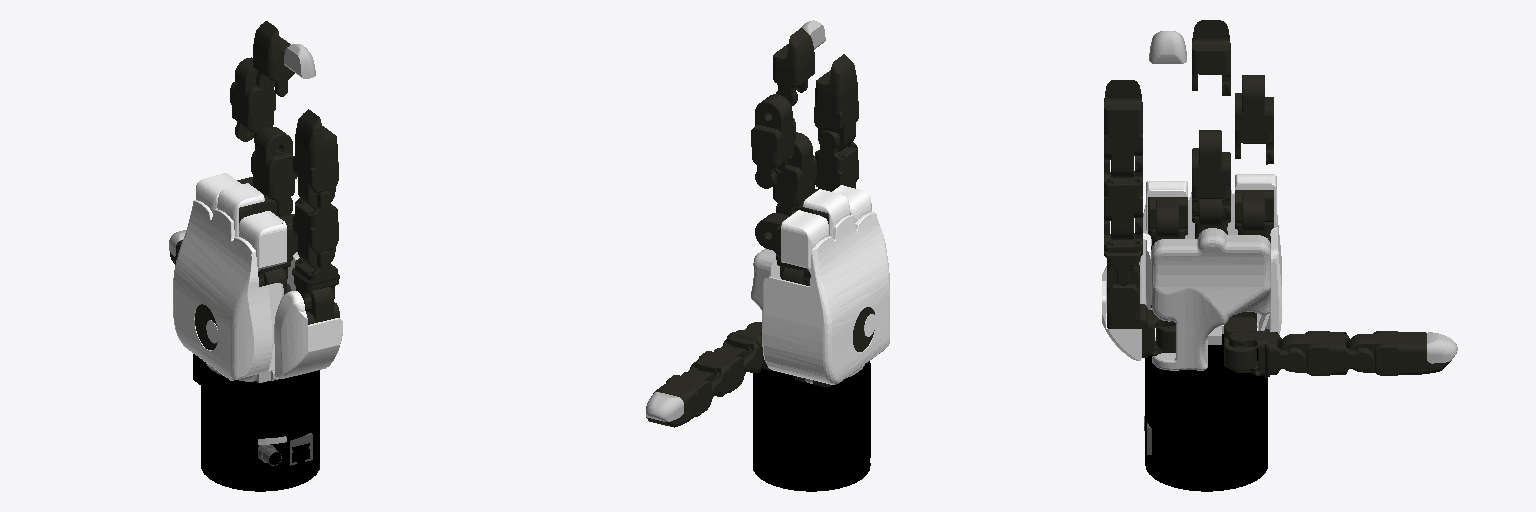
--- Facts derived from the render (not from the file) ---
The picture shows the robot from 3 angles, left to right: view 1: azimuth 30°, elevation 25°; view 2: azimuth 150°, elevation 25°; view 3: azimuth 270°, elevation 25°; orthographic projection.
Robot: dg5f_right — 28 links, 27 joints (20 revolute, 7 fixed); root link rl_dg_mount; default pose: every joint at zero.
Visible links, largest first — view 1: rl_dg_palm, rl_dg_base, rl_dg_5_1, rl_dg_5_4, rl_dg_3_2, rl_dg_4_1, rl_dg_2_3, rl_dg_5_3, rl_dg_3_4, rl_dg_3_1, rl_dg_5_2, rl_dg_2_1 (+1 smaller); view 2: rl_dg_palm, rl_dg_base, rl_dg_2_3, rl_dg_2_1, rl_dg_5_4, rl_dg_3_2, rl_dg_3_4, rl_dg_5_3, rl_dg_1_4, rl_dg_1_3, rl_dg_3_1, rl_dg_1_2 (+2 smaller); view 3: rl_dg_palm, rl_dg_base, rl_dg_5_1, rl_dg_5_4, rl_dg_1_4, rl_dg_1_3, rl_dg_3_2, rl_dg_2_3, rl_dg_2_1, rl_dg_4_1, rl_dg_5_3, rl_dg_3_4 (+6 smaller).
Boxes of the visible links, bbox=[...] form: rl_dg_palm: bbox=[173, 200, 299, 382]; rl_dg_base: bbox=[193, 354, 319, 491]; rl_dg_5_1: bbox=[274, 287, 342, 378]; rl_dg_5_4: bbox=[293, 109, 338, 208]; rl_dg_3_2: bbox=[251, 126, 296, 215]; rl_dg_4_1: bbox=[239, 211, 297, 286]; rl_dg_2_3: bbox=[230, 57, 275, 143]; rl_dg_5_3: bbox=[293, 191, 338, 267]; rl_dg_3_4: bbox=[253, 21, 294, 96]; rl_dg_3_1: bbox=[217, 183, 292, 236]; rl_dg_5_2: bbox=[292, 251, 339, 311]; rl_dg_2_1: bbox=[196, 173, 252, 212]; rl_dg_palm: bbox=[751, 212, 889, 384]; rl_dg_base: bbox=[753, 361, 870, 491]; rl_dg_2_3: bbox=[751, 94, 795, 188]; rl_dg_2_1: bbox=[755, 210, 828, 285]; rl_dg_5_4: bbox=[814, 54, 858, 151]; rl_dg_3_2: bbox=[773, 132, 816, 215]; rl_dg_3_4: bbox=[773, 28, 814, 106]; rl_dg_5_3: bbox=[815, 130, 858, 190]; rl_dg_1_4: bbox=[646, 369, 715, 427]; rl_dg_1_3: bbox=[681, 345, 748, 396]; rl_dg_3_1: bbox=[776, 189, 849, 236]; rl_dg_1_2: bbox=[714, 322, 762, 372]; rl_dg_palm: bbox=[1140, 190, 1281, 370]; rl_dg_base: bbox=[1144, 334, 1267, 491]; rl_dg_5_1: bbox=[1102, 262, 1175, 360]; rl_dg_5_4: bbox=[1104, 80, 1142, 177]; rl_dg_1_4: bbox=[1346, 331, 1450, 375]; rl_dg_1_3: bbox=[1278, 331, 1373, 375]; rl_dg_3_2: bbox=[1192, 130, 1230, 219]; rl_dg_2_3: bbox=[1235, 75, 1273, 164]; rl_dg_2_1: bbox=[1235, 174, 1276, 237]; rl_dg_4_1: bbox=[1146, 181, 1187, 242]; rl_dg_5_3: bbox=[1104, 155, 1142, 239]; rl_dg_3_4: bbox=[1192, 20, 1230, 95].
Size in the robot's own frame: 0.0735 by 0.2022 by 0.2837 metres.
Meshes: 28 distinct files referenced, 18 mesh visuals loaded (18 Collada DAE); not drawn: 10 (reference not matched to a file when rendering).

The robot description file, URDF, robot "dg5f_right":
<?xml version="1.0" ?>
<!--
    dg5f_right.urdf
    Licensed under the BSD-3-Clause
    Copyright (c) 2025 Tesollo Inc.
    See LICENSE file for details.

    Reference:
    * https://tesollo.com/dg-5f/
-->

<robot name="dg5f_right">
  <link name="rl_dg_mount">
    <inertial>
      <origin xyz="-6.4721E-09 -2.1674E-05 0.0049997" rpy="0.0 0.0 0.0" />
      <inertia ixx="1.0999E-05" ixy="-2.1734E-12" ixz="1.2441E-12" iyy="1.1018E-05" iyz="4.0435E-09" izz="2.0531E-05" />
      <mass value="0.05" />
    </inertial>
    <visual>
      <geometry>
        <mesh filename="package://dg_description/meshes/dg5f_right/visual/rl_dg_mount.dae"/>
      </geometry>
    </visual>
    <collision>
      <geometry>
        <mesh filename="package://dg_description/meshes/dg5f_right/collision/rl_dg_mount_c.STL"/>
      </geometry>
    </collision>
  </link>

  <link name="rl_dg_base">
    <inertial>
      <origin xyz="-0.00058969 0.0005138 0.037363" rpy="0.0 0.0 0.0" />
      <inertia ixx="0.00048608" ixy="1.041E-05" ixz="1.7229E-05" iyy="0.00049085" iyz="-5.1908E-06" izz="0.00043369" />
      <mass value="0.45" />
    </inertial>
    <visual>
      <origin xyz="0 0 0" rpy="0 0 0" />
      <geometry>
        <mesh filename="package://dg_description/meshes/dg5f_right/visual/rl_dg_base.dae" />
      </geometry>
    </visual>
    <collision>
      <origin xyz="0 0 0" rpy="0 0 0" />
      <geometry>
        <mesh filename="package://dg_description/meshes/dg5f_right/collision/rl_dg_base_c.STL" />
      </geometry>
    </collision>
  </link>
  <joint name="rj_dg_base" type="fixed">
    <parent link="rl_dg_mount"/>
    <child link="rl_dg_base"/>
    <origin rpy="0 0 0" xyz="0 0 0.004"/>
  </joint>

  <link name="rl_dg_palm">
    <inertial>
      <origin xyz="-0.0089577 0.00095577 0.041325" rpy="0.0 0.0 0.0" />
      <inertia ixx="0.00052656" ixy="2.513E-06" ixz="-2.2304E-05" iyy="0.00041654" iyz="-4.8956E-05" izz="0.00045783" />
      <mass value="0.35" />
    </inertial>
    <visual>
      <origin xyz="0 0 0" rpy="0 0 0" />
      <geometry>
        <mesh filename="package://dg_description/meshes/dg5f_right/visual/rl_dg_palm.dae" />
      </geometry>
    </visual>
    <collision>
      <origin xyz="0 0 0" rpy="0 0 0" />
      <geometry>
        <mesh filename="package://dg_description/meshes/dg5f_right/collision/rl_dg_palm_c.STL" />
      </geometry>
    </collision>
  </link>
  <joint name="rj_dg_palm" type="fixed">
    <parent link="rl_dg_base"/>
    <child link="rl_dg_palm"/>
    <origin rpy="0 0 0" xyz="0 0 0.0698"/>
  </joint>

  <link name="rl_dg_1_1">
    <inertial>
      <origin xyz="0.021473 3.1163E-06 0.0028146" rpy="0.0 0.0 0.0" />
      <inertia ixx="4.2707E-06" ixy="2.4123E-09" ixz="2.9055E-06" iyy="1.3718E-05" iyz="-1.3824E-09" izz="1.2161E-05" />
      <mass value="0.045" />
    </inertial>
    <visual>
      <origin xyz="0 0 0" rpy="0 0 0" />
      <geometry>
        <mesh filename="package://dg_description/meshes/dg5f_right/visual/rl_dg_1_1.dae" />
      </geometry>
    </visual>
    <collision>
      <origin xyz="0 0 0" rpy="0 0 0" />
      <geometry>
        <mesh filename="package://dg_description/meshes/dg5f_right/collision/rl_dg_1_1_c.STL" />
      </geometry>
    </collision>
  </link>
  <joint name="rj_dg_1_1" type="revolute">
    <origin xyz="-0.0162 0.019 0.0128" rpy="0.0 0.0 0.0" />
    <parent link="rl_dg_palm" />
    <child link="rl_dg_1_1" />
    <axis xyz="1 0 0" />
    <limit lower="-0.3839724354387525" upper="0.8901179185171081" effort="7.5" velocity="3.141592653589793"/>
  </joint>

  <link name="rl_dg_1_2">
    <inertial>
      <origin xyz="0.00055633 0.0155 0.00055633" rpy="0.0 0.0 0.0" />
      <inertia ixx="1.9935E-06" ixy="-1.5774E-07" ixz="3.114E-09" iyy="1.459E-06" iyz="1.5774E-07" izz="1.9935E-06" />
      <mass value="0.025" />
    </inertial>
    <visual>
      <origin xyz="0 0 0" rpy="0 0 0" />
      <geometry>
        <mesh filename="package://dg_description/meshes/dg5f_right/visual/rl_dg_1_2.dae" />
      </geometry>
    </visual>
    <collision>
      <origin xyz="0 0 0" rpy="0 0 0" />
      <geometry>
        <mesh filename="package://dg_description/meshes/dg5f_right/collision/rl_dg_1_2_c.STL" />
      </geometry>
    </collision>
  </link>
  <joint name="rj_dg_1_2" type="revolute">
    <origin xyz="0.04195 0.0 0.0" rpy="0.0 0.0 0.0" />
    <parent link="rl_dg_1_1" />
    <child link="rl_dg_1_2" />
    <axis xyz="0 0 1" />
    <limit lower="-3.141592653589793" upper="0.0" effort="7.5" velocity="3.141592653589793"/>
  </joint>

  <link name="rl_dg_1_3">
    <inertial>
      <origin xyz="2.3008E-05 0.014842 4.7446E-06" rpy="0.0 0.0 0.0" />
      <inertia ixx="5.9794E-06" ixy="-3.6014E-07" ixz="-1.3678E-09" iyy="2.458E-06" iyz="-2.3552E-09" izz="6.4181E-06" />
      <mass value="0.045" />
    </inertial>
    <visual>
      <origin xyz="0 0 0" rpy="0 0 0" />
      <geometry>
        <mesh filename="package://dg_description/meshes/dg5f_right/visual/rl_dg_1_3.dae" />
      </geometry>
    </visual>
    <collision>
      <origin xyz="0 0 0" rpy="0 0 0" />
      <geometry>
        <mesh filename="package://dg_description/meshes/dg5f_right/collision/rl_dg_1_3_c.STL" />
      </geometry>
    </collision>
  </link>
  <joint name="rj_dg_1_3" type="revolute">
    <origin xyz="0.0 0.031 0.0" rpy="0.0 0.0 0.0" />
    <parent link="rl_dg_1_2" />
    <child link="rl_dg_1_3" />
    <axis xyz="1 0 0" />
    <limit lower="-1.5707963267948966" upper="1.5707963267948966" effort="7.5" velocity="3.141592653589793"/>
  </joint>

  <link name="rl_dg_1_4">
    <inertial>
      <origin xyz="-0.00020482 0.018795 -0.00036539" rpy="0.0 0.0 0.0" />
      <inertia ixx="9.4915E-06" ixy="-1.5157E-07" ixz="3.4626E-09" iyy="2.9391E-06" iyz="3.7813E-07" izz="9.8194E-06" />
      <mass value="0.045" />
    </inertial>
    <visual>
      <origin xyz="0 0 0" rpy="0 0 0" />
      <geometry>
        <mesh filename="package://dg_description/meshes/dg5f_right/visual/rl_dg_1_4.dae" />
      </geometry>
    </visual>
    <collision>
      <origin xyz="0 0 0" rpy="0 0 0" />
      <geometry>
        <mesh filename="package://dg_description/meshes/dg5f_right/collision/rl_dg_1_4_c.STL" />
      </geometry>
    </collision>
  </link>
  <joint name="rj_dg_1_4" type="revolute">
    <origin xyz="0.0 0.0388 0.0" rpy="0.0 0.0 0.0" />
    <parent link="rl_dg_1_3" />
    <child link="rl_dg_1_4" />
    <axis xyz="1 0 0" />
    <limit lower="-1.5707963267948966" upper="1.5707963267948966" effort="7.5" velocity="3.141592653589793"/>
  </joint>

  <link name="rl_dg_1_tip">
    <inertial>
      <origin xyz="5.479E-07 0.007157 0.0038063" rpy="0.0 0.0 0.0" />
      <inertia ixx="1.9895E-07" ixy="-3.0731E-11" ixz="2.1191E-12" iyy="2.5698E-07" iyz="1.3375E-08" izz="3.2445E-07" />
      <mass value="0.005" />
    </inertial>
    <visual>
      <origin xyz="0 0 0" rpy="0 0 0" />
      <geometry>
        <mesh filename="package://dg_description/meshes/dg5f_right/visual/rl_dg_1_tip.dae" />
      </geometry>
    </visual>
    <collision>
      <origin xyz="0 0 0" rpy="0 0 0" />
      <geometry>
        <mesh filename="package://dg_description/meshes/dg5f_right/collision/rl_dg_1_tip_c.STL" />
      </geometry>
    </collision>
  </link>
  <joint name="rj_dg_1_tip" type="fixed">
    <origin xyz="0.0 0.0363 0.0" rpy="0.0 0.0 0.0" />
    <parent link="rl_dg_1_4" />
    <child link="rl_dg_1_tip" />
  </joint>

  <link name="rl_dg_2_1">
    <inertial>
      <origin xyz="0.001061 0.00024417 0.023499" rpy="0.0 0.0 0.0" />
      <inertia ixx="6.5538E-06" ixy="3.9294E-08" ixz="-1.1507E-06" iyy="9.5305E-06" iyz="7.6072E-08" izz="7.0877E-06" />
      <mass value="0.045" />
    </inertial>
    <visual>
      <origin xyz="0 0 0" rpy="0 0 0" />
      <geometry>
        <mesh filename="package://dg_description/meshes/dg5f_right/visual/rl_dg_2_1.dae" />
      </geometry>
    </visual>
    <collision>
      <origin xyz="0 0 0" rpy="0 0 0" />
      <geometry>
        <mesh filename="package://dg_description/meshes/dg5f_right/collision/rl_dg_2_1_c.STL" />
      </geometry>
    </collision>
  </link>
  <joint name="rj_dg_2_1" type="revolute">
    <origin xyz="-0.0071 0.027 0.0661" rpy="0.0 0.0 0.0" />
    <parent link="rl_dg_palm" />
    <child link="rl_dg_2_1" />
    <axis xyz="1 0 0" />
    <limit lower="-0.4188790204786391" upper="0.6108652381980153" effort="7.5" velocity="3.141592653589793"/>
  </joint>

  <link name="rl_dg_2_2">
    <inertial>
      <origin xyz="-4.7446E-06 2.3008E-05 0.023958" rpy="0.0 0.0 0.0" />
      <inertia ixx="6.4181E-06" ixy="1.3678E-09" ixz="-2.3552E-09" iyy="5.9794E-06" iyz="3.6014E-07" izz="2.458E-06" />
      <mass value="0.045" />
    </inertial>
    <visual>
      <origin xyz="0 0 0" rpy="0 0 0" />
      <geometry>
        <mesh filename="package://dg_description/meshes/dg5f_right/visual/rl_dg_2_2.dae" />
      </geometry>
    </visual>
    <collision>
      <origin xyz="0 0 0" rpy="0 0 0" />
      <geometry>
        <mesh filename="package://dg_description/meshes/dg5f_right/collision/rl_dg_2_2_c.STL" />
      </geometry>
    </collision>
  </link>
  <joint name="rj_dg_2_2" type="revolute">
    <origin xyz="0.01765 0.0 0.0265" rpy="0.0 0.0 0.0" />
    <parent link="rl_dg_2_1" />
    <child link="rl_dg_2_2" />
    <axis xyz="0 1 0" />
    <limit lower="-0.0" upper="2.007128639793479" effort="7.5" velocity="3.141592653589793"/>
  </joint>

  <link name="rl_dg_2_3">
    <inertial>
      <origin xyz="-4.7446E-06 2.3008E-05 0.023958" rpy="0.0 0.0 0.0" />
      <inertia ixx="6.4181E-06" ixy="1.3678E-09" ixz="-2.3552E-09" iyy="5.9794E-06" iyz="3.6014E-07" izz="2.458E-06" />
      <mass value="0.045" />
    </inertial>
    <visual>
      <origin xyz="0 0 0" rpy="0 0 0" />
      <geometry>
        <mesh filename="package://dg_description/meshes/dg5f_right/visual/rl_dg_2_3.dae" />
      </geometry>
    </visual>
    <collision>
      <origin xyz="0 0 0" rpy="0 0 0" />
      <geometry>
        <mesh filename="package://dg_description/meshes/dg5f_right/collision/rl_dg_2_3_c.STL" />
      </geometry>
    </collision>
  </link>
  <joint name="rj_dg_2_3" type="revolute">
    <origin xyz="0.0 0.0 0.0388" rpy="0.0 0.0 0.0" />
    <parent link="rl_dg_2_2" />
    <child link="rl_dg_2_3" />
    <axis xyz="0 1 0" />
    <limit lower="-1.5707963267948966" upper="1.5707963267948966" effort="7.5" velocity="3.141592653589793"/>
  </joint>

  <link name="rl_dg_2_4">
    <inertial>
      <origin xyz="-0.00070816 0.00043036 0.017842" rpy="0.0 0.0 0.0" />
      <inertia ixx="2.8592E-06" ixy="-5.9306E-09" ixz="2.1028E-07" iyy="2.3907E-06" iyz="1.8286E-07" izz="1.6592E-06" />
      <mass value="0.025" />
    </inertial>
    <visual>
      <origin xyz="0 0 0" rpy="0 0 0" />
      <geometry>
        <mesh filename="package://dg_description/meshes/dg5f_right/visual/rl_dg_2_4.dae" />
      </geometry>
    </visual>
    <collision>
      <origin xyz="0 0 0" rpy="0 0 0" />
      <geometry>
        <mesh filename="package://dg_description/meshes/dg5f_right/collision/rl_dg_2_4_c.STL" />
      </geometry>
    </collision>
  </link>
  <joint name="rj_dg_2_4" type="revolute">
    <origin xyz="0.0 0.0 0.0388" rpy="0.0 0.0 0.0" />
    <parent link="rl_dg_2_3" />
    <child link="rl_dg_2_4" />
    <axis xyz="0 1 0" />
    <limit lower="-1.5707963267948966" upper="1.5707963267948966" effort="7.5" velocity="3.141592653589793"/>
  </joint>

  <link name="rl_dg_2_tip">
    <inertial>
      <origin xyz="0.0038062910498208 5.47903831610297E-07 0.00715699051285251" rpy="0.0 0.0 0.0" />
      <inertia ixx="3.24447323464583E-07" ixy="2.11907398040965E-12" ixz="1.337493321886E-08" iyy="1.98954959099231E-07" iyz="-3.07311776926212E-11" izz="2.56982145081954E-07" />
      <mass value="0.005" />
    </inertial>
    <visual>
      <origin xyz="0 0 0" rpy="0 0 0" />
      <geometry>
        <mesh filename="package://dg_description/meshes/dg5f_right/visual/rl_dg_2_tip.dae" />
      </geometry>
    </visual>
    <collision>
      <origin xyz="0 0 0" rpy="0 0 0" />
      <geometry>
        <mesh filename="package://dg_description/meshes/dg5f_right/collision/rl_dg_2_tip_c.STL" />
      </geometry>
    </collision>
  </link>
  <joint name="rj_dg_2_tip" type="fixed">
    <origin xyz="0.0 0.0 0.0255" rpy="0.0 0.0 0.0" />
    <parent link="rl_dg_2_4" />
    <child link="rl_dg_2_tip" />
  </joint>

  <link name="rl_dg_3_1">
    <inertial>
      <origin xyz="0.0012558 -0.00017703 0.023374" rpy="0.0 0.0 0.0" />
      <inertia ixx="6.233E-06" ixy="1.1315E-07" ixz="-1.1589E-06" iyy="9.3331E-06" iyz="3.5383E-08" izz="6.7817E-06" />
      <mass value="0.045" />
    </inertial>
    <visual>
      <origin xyz="0 0 0" rpy="0 0 0" />
      <geometry>
        <mesh filename="package://dg_description/meshes/dg5f_right/visual/rl_dg_3_1.dae" />
      </geometry>
    </visual>
    <collision>
      <origin xyz="0 0 0" rpy="0 0 0" />
      <geometry>
        <mesh filename="package://dg_description/meshes/dg5f_right/collision/rl_dg_3_1_c.STL" />
      </geometry>
    </collision>
  </link>
  <joint name="rj_dg_3_1" type="revolute">
    <origin xyz="-0.0071 0.0025 0.0701" rpy="0.0 0.0 0.0" />
    <parent link="rl_dg_palm" />
    <child link="rl_dg_3_1" />
    <axis xyz="1 0 0" />
    <limit lower="-0.6108652381980153" upper="0.6108652381980153" effort="7.5" velocity="3.141592653589793"/>
  </joint>

  <link name="rl_dg_3_2">
    <inertial>
      <origin xyz="-4.7446E-06 2.3008E-05 0.023958" rpy="0.0 0.0 0.0" />
      <inertia ixx="6.4181E-06" ixy="1.3678E-09" ixz="-2.3552E-09" iyy="5.9794E-06" iyz="3.6014E-07" izz="2.458E-06" />
      <mass value="0.045" />
    </inertial>
    <visual>
      <origin xyz="0 0 0" rpy="0 0 0" />
      <geometry>
        <mesh filename="package://dg_description/meshes/dg5f_right/visual/rl_dg_3_2.dae" />
      </geometry>
    </visual>
    <collision>
      <origin xyz="0 0 0" rpy="0 0 0" />
      <geometry>
        <mesh filename="package://dg_description/meshes/dg5f_right/collision/rl_dg_3_2_c.STL" />
      </geometry>
    </collision>
  </link>
  <joint name="rj_dg_3_2" type="revolute">
    <origin xyz="0.01765 0.0 0.0265" rpy="0.0 0.0 0.0" />
    <parent link="rl_dg_3_1" />
    <child link="rl_dg_3_2" />
    <axis xyz="0 1 0" />
    <limit lower="0.0" upper="1.9547687622336491" effort="7.5" velocity="3.141592653589793"/>
  </joint>

  <link name="rl_dg_3_3">
    <inertial>
      <origin xyz="-4.7446E-06 2.3008E-05 0.023958" rpy="0.0 0.0 0.0" />
      <inertia ixx="6.4181E-06" ixy="1.3678E-09" ixz="-2.3552E-09" iyy="5.9794E-06" iyz="3.6014E-07" izz="2.458E-06" />
      <mass value="0.045" />
    </inertial>
    <visual>
      <origin xyz="0 0 0" rpy="0 0 0" />
      <geometry>
        <mesh filename="package://dg_description/meshes/dg5f_right/visual/rl_dg_3_3.dae" />
      </geometry>
    </visual>
    <collision>
      <origin xyz="0 0 0" rpy="0 0 0" />
      <geometry>
        <mesh filename="package://dg_description/meshes/dg5f_right/collision/rl_dg_3_3_c.STL" />
      </geometry>
    </collision>
  </link>
  <joint name="rj_dg_3_3" type="revolute">
    <origin xyz="0.0 0.0 0.0388" rpy="0.0 0.0 0.0" />
    <parent link="rl_dg_3_2" />
    <child link="rl_dg_3_3" />
    <axis xyz="0 1 0" />
    <limit lower="-1.5707963267948966" upper="1.5707963267948966" effort="7.5" velocity="3.141592653589793"/>
  </joint>

  <link name="rl_dg_3_4">
    <inertial>
      <origin xyz="-0.00070816 0.00043036 0.017842" rpy="0.0 0.0 0.0" />
      <inertia ixx="2.8592E-06" ixy="-5.9306E-09" ixz="2.1028E-07" iyy="2.3907E-06" iyz="1.8286E-07" izz="1.6592E-06" />
      <mass value="0.025" />
    </inertial>
    <visual>
      <origin xyz="0 0 0" rpy="0 0 0" />
      <geometry>
        <mesh filename="package://dg_description/meshes/dg5f_right/visual/rl_dg_3_4.dae" />
      </geometry>
    </visual>
    <collision>
      <origin xyz="0 0 0" rpy="0 0 0" />
      <geometry>
        <mesh filename="package://dg_description/meshes/dg5f_right/collision/rl_dg_3_4_c.STL" />
      </geometry>
    </collision>
  </link>
  <joint name="rj_dg_3_4" type="revolute">
    <origin xyz="0.0 0.0 0.0388" rpy="0.0 0.0 0.0" />
    <parent link="rl_dg_3_3" />
    <child link="rl_dg_3_4" />
    <axis xyz="0 1 0" />
    <limit lower="-1.5707963267948966" upper="1.5707963267948966" effort="7.5" velocity="3.141592653589793"/>
  </joint>

  <link name="rl_dg_3_tip">
    <inertial>
      <origin xyz="0.0038062910498208 5.47903831610297E-07 0.00715699051285251" rpy="0.0 0.0 0.0" />
      <inertia ixx="3.24447323464583E-07" ixy="2.11907398040965E-12" ixz="1.337493321886E-08" iyy="1.98954959099231E-07" iyz="-3.07311776926212E-11" izz="2.56982145081954E-07" />
      <mass value="0.005" />
    </inertial>
    <visual>
      <origin xyz="0 0 0" rpy="0 0 0" />
      <geometry>
        <mesh filename="package://dg_description/meshes/dg5f_right/visual/rl_dg_3_tip.dae" />
      </geometry>
    </visual>
    <collision>
      <origin xyz="0 0 0" rpy="0 0 0" />
      <geometry>
        <mesh filename="package://dg_description/meshes/dg5f_right/collision/rl_dg_3_tip_c.STL" />
      </geometry>
    </collision>
  </link>
  <joint name="rj_dg_3_tip" type="fixed">
    <origin xyz="0.0 0.0 0.0255" rpy="0.0 0.0 0.0" />
    <parent link="rl_dg_3_4" />
    <child link="rl_dg_3_tip" />
  </joint>

  <link name="rl_dg_4_1">
    <inertial>
      <origin xyz="6.0566E-05 -0.00058566 0.023499" rpy="0.0 0.0 0.0" />
      <inertia ixx="6.5541E-06" ixy="1.8684E-07" ixz="-1.1508E-06" iyy="9.5306E-06" iyz="-5.3298E-09" izz="7.0879E-06" />
      <mass value="0.045" />
    </inertial>
    <visual>
      <origin xyz="0 0 0" rpy="0 0 0" />
      <geometry>
        <mesh filename="package://dg_description/meshes/dg5f_right/visual/rl_dg_4_1.dae" />
      </geometry>
    </visual>
    <collision>
      <origin xyz="0 0 0" rpy="0 0 0" />
      <geometry>
        <mesh filename="package://dg_description/meshes/dg5f_right/collision/rl_dg_4_1_c.STL" />
      </geometry>
    </collision>
  </link>
  <joint name="rj_dg_4_1" type="revolute">
    <origin xyz="-0.0071 -0.022 0.0621" rpy="0.0 0.0 0.0" />
    <parent link="rl_dg_palm" />
    <child link="rl_dg_4_1" />
    <axis xyz="1 0 0" />
    <limit lower="-0.6108652381980153" upper="0.4188790204786391" effort="7.5" velocity="3.141592653589793"/>
  </joint>

  <link name="rl_dg_4_2">
    <inertial>
      <origin xyz="-4.7446E-06 2.3008E-05 0.023958" rpy="0.0 0.0 0.0" />
      <inertia ixx="6.4181E-06" ixy="1.3678E-09" ixz="-2.3552E-09" iyy="5.9794E-06" iyz="3.6014E-07" izz="2.458E-06" />
      <mass value="0.045" />
    </inertial>
    <visual>
      <origin xyz="0 0 0" rpy="0 0 0" />
      <geometry>
        <mesh filename="package://dg_description/meshes/dg5f_right/visual/rl_dg_4_2.dae" />
      </geometry>
    </visual>
    <collision>
      <origin xyz="0 0 0" rpy="0 0 0" />
      <geometry>
        <mesh filename="package://dg_description/meshes/dg5f_right/collision/rl_dg_4_2_c.STL" />
      </geometry>
    </collision>
  </link>
  <joint name="rj_dg_4_2" type="revolute">
    <origin xyz="0.01765 0.0 0.0265" rpy="0.0 0.0 0.0" />
    <parent link="rl_dg_4_1" />
    <child link="rl_dg_4_2" />
    <axis xyz="0 1 0" />
    <limit lower="0.0" upper="1.9024088846738192" effort="7.5" velocity="3.141592653589793"/>
  </joint>

  <link name="rl_dg_4_3">
    <inertial>
      <origin xyz="-4.7446E-06 2.3008E-05 0.023958" rpy="0.0 0.0 0.0" />
      <inertia ixx="6.4181E-06" ixy="1.3678E-09" ixz="-2.3552E-09" iyy="5.9794E-06" iyz="3.6014E-07" izz="2.458E-06" />
      <mass value="0.045" />
    </inertial>
    <visual>
      <origin xyz="0 0 0" rpy="0 0 0" />
      <geometry>
        <mesh filename="package://dg_description/meshes/dg5f_right/visual/rl_dg_4_3.dae" />
      </geometry>
    </visual>
    <collision>
      <origin xyz="0 0 0" rpy="0 0 0" />
      <geometry>
        <mesh filename="package://dg_description/meshes/dg5f_right/collision/rl_dg_4_3_c.STL" />
      </geometry>
    </collision>
  </link>
  <joint name="rj_dg_4_3" type="revolute">
    <origin xyz="0.0 0.0 0.0388" rpy="0.0 0.0 0.0" />
    <parent link="rl_dg_4_2" />
    <child link="rl_dg_4_3" />
    <axis xyz="0 1 0" />
    <limit lower="-1.5707963267948966" upper="1.5707963267948966" effort="7.5" velocity="3.141592653589793"/>
  </joint>

  <link name="rl_dg_4_4">
    <inertial>
      <origin xyz="-0.00070816 0.00043036 0.017842" rpy="0.0 0.0 0.0" />
      <inertia ixx="2.8592E-06" ixy="-5.9306E-09" ixz="2.1028E-07" iyy="2.3907E-06" iyz="1.8286E-07" izz="1.6592E-06" />
      <mass value="0.025" />
    </inertial>
    <visual>
      <origin xyz="0 0 0" rpy="0 0 0" />
      <geometry>
        <mesh filename="package://dg_description/meshes/dg5f_right/visual/rl_dg_4_4.dae" />
      </geometry>
    </visual>
    <collision>
      <origin xyz="0 0 0" rpy="0 0 0" />
      <geometry>
        <mesh filename="package://dg_description/meshes/dg5f_right/collision/rl_dg_4_4_c.STL" />
      </geometry>
    </collision>
  </link>
  <joint name="rj_dg_4_4" type="revolute">
    <origin xyz="0.0 0.0 0.0388" rpy="0.0 0.0 0.0" />
    <parent link="rl_dg_4_3" />
    <child link="rl_dg_4_4" />
    <axis xyz="0 1 0" />
    <limit lower="-1.5707963267948966" upper="1.5707963267948966" effort="7.5" velocity="3.141592653589793"/>
  </joint>

  <link name="rl_dg_4_tip">
    <inertial>
      <origin xyz="0.0038062910498208 5.47903831610297E-07 0.00715699051285251" rpy="0.0 0.0 0.0" />
      <inertia ixx="3.24447323464583E-07" ixy="2.11907398040965E-12" ixz="1.337493321886E-08" iyy="1.98954959099231E-07" iyz="-3.07311776926212E-11" izz="2.56982145081954E-07" />
      <mass value="0.005" />
    </inertial>
    <visual>
      <origin xyz="0 0 0" rpy="0 0 0" />
      <geometry>
        <mesh filename="package://dg_description/meshes/dg5f_right/visual/rl_dg_4_tip.dae" />
      </geometry>
    </visual>
    <collision>
      <origin xyz="0 0 0" rpy="0 0 0" />
      <geometry>
        <mesh filename="package://dg_description/meshes/dg5f_right/collision/rl_dg_4_tip_c.STL" />
      </geometry>
    </collision>
  </link>
  <joint name="rj_dg_4_tip" type="fixed">
    <origin xyz="0.0 0.0 0.0255" rpy="0.0 0.0 0.0" />
    <parent link="rl_dg_4_4" />
    <child link="rl_dg_4_tip" />
  </joint>

  <link name="rl_dg_5_1">
    <inertial>
      <origin xyz="-0.00433013582483537 -0.0250157327042134 0.0140244480786593" rpy="0.0 0.0 0.0" />
      <inertia ixx="2.36207639664085E-05" ixy="2.93907895931127E-07" ixz="2.26324366936635E-06" iyy="2.36540063110524E-05" iyz="4.47865100758349E-06" izz="1.12977296557035E-05" />
      <mass value="0.055" />
    </inertial>
    <visual>
      <origin xyz="0 0 0" rpy="0 0 0" />
      <geometry>
        <mesh filename="package://dg_description/meshes/dg5f_right/visual/rl_dg_5_1.dae" />
      </geometry>
    </visual>
    <collision>
      <origin xyz="0 0 0" rpy="0 0 0" />
      <geometry>
        <mesh filename="package://dg_description/meshes/dg5f_right/collision/rl_dg_5_1_c.STL" />
      </geometry>
    </collision>
  </link>
  <joint name="rj_dg_5_1" type="revolute">
    <origin xyz="0.0103 -0.0195 0.0182" rpy="0.0 0.0 0.0" />
    <parent link="rl_dg_palm" />
    <child link="rl_dg_5_1" />
    <axis xyz="0 0 1" />
    <limit lower="-0.017453292519943295" upper="1.0471975511965976" effort="7.5" velocity="3.141592653589793"/>
  </joint>

  <link name="rl_dg_5_2">
    <inertial>
      <origin xyz="-0.000537630631570108 0.000537630708726741 0.0155000698139622" rpy="0.0 0.0 0.0" />
      <inertia ixx="1.99384439440442E-06" ixy="-8.19844977566199E-09" ixz="-1.59465145750793E-07" iyy="1.99384475671682E-06" iyz="-1.59463723420756E-07" izz="1.4598228332417E-06" />
      <mass value="0.025" />
    </inertial>
    <visual>
      <origin xyz="0 0 0" rpy="0 0 0" />
      <geometry>
        <mesh filename="package://dg_description/meshes/dg5f_right/visual/rl_dg_5_2.dae" />
      </geometry>
    </visual>
    <collision>
      <origin xyz="0 0 0" rpy="0 0 0" />
      <geometry>
        <mesh filename="package://dg_description/meshes/dg5f_right/collision/rl_dg_5_2_c.STL" />
      </geometry>
    </collision>
  </link>
  <joint name="rj_dg_5_2" type="revolute">
    <origin xyz="0.0 -0.028 0.0381" rpy="0.0 0.0 0.0" />
    <parent link="rl_dg_5_1" />
    <child link="rl_dg_5_2" />
    <axis xyz="1 0 0" />
    <limit lower="-0.4188790204786391" upper="0.6108652381980153" effort="7.5" velocity="3.141592653589793"/>
  </joint>

  <link name="rl_dg_5_3">
    <inertial>
      <origin xyz="4.7446492172469E-06 2.30083649378834E-05 0.0148418615456518" rpy="0.0 0.0 0.0" />
      <inertia ixx="6.41805423935041E-06" ixy="-1.36778125377832E-09" ixz="-2.35515982623531E-09" iyy="5.97938336588576E-06" iyz="-3.60143752502035E-07" izz="2.4580051713906E-06" />
      <mass value="0.045" />
    </inertial>
    <visual>
      <origin xyz="0 0 0" rpy="0 0 0" />
      <geometry>
        <mesh filename="package://dg_description/meshes/dg5f_right/visual/rl_dg_5_3.dae" />
      </geometry>
    </visual>
    <collision>
      <origin xyz="0 0 0" rpy="0 0 0" />
      <geometry>
        <mesh filename="package://dg_description/meshes/dg5f_right/collision/rl_dg_5_3_c.STL" />
      </geometry>
    </collision>
  </link>
  <joint name="rj_dg_5_3" type="revolute">
    <origin xyz="0.0 0.0 0.031" rpy="0.0 0.0 0.0" />
    <parent link="rl_dg_5_2" />
    <child link="rl_dg_5_3" />
    <axis xyz="0 1 0" />
    <limit lower="-1.5707963267948966" upper="1.5707963267948966" effort="7.5" velocity="3.141592653589793"/>
  </joint>

  <link name="rl_dg_5_4">
    <inertial>
      <origin xyz="-0.000365388872256418 -0.000204821110631699 0.0187946706549663" rpy="0.0 0.0 0.0" />
      <inertia ixx="9.81936385229629E-06" ixy="3.46258177073373E-09" ixz="3.7813020115566E-07" iyy="9.49149264777591E-06" iyz="-1.51572680457615E-07" izz="2.93905089746507E-06" />
      <mass value="0.045" />
    </inertial>
    <visual>
      <origin xyz="0 0 0" rpy="0 0 0" />
      <geometry>
        <mesh filename="package://dg_description/meshes/dg5f_right/visual/rl_dg_5_4.dae" />
      </geometry>
    </visual>
    <collision>
      <origin xyz="0 0 0" rpy="0 0 0" />
      <geometry>
        <mesh filename="package://dg_description/meshes/dg5f_right/collision/rl_dg_5_4_c.STL" />
      </geometry>
    </collision>
  </link>
  <joint name="rj_dg_5_4" type="revolute">
    <origin xyz="0.0 0.0 0.0388" rpy="0.0 0.0 0.0" />
    <parent link="rl_dg_5_3" />
    <child link="rl_dg_5_4" />
    <axis xyz="0 1 0" />
    <limit lower="-1.5707963267948966" upper="1.5707963267948966" effort="7.5" velocity="3.141592653589793"/>
  </joint>

  <link name="rl_dg_5_tip">
    <inertial>
      <origin xyz="0.0038062910498208 5.47903831610297E-07 0.00715699051285251" rpy="0.0 0.0 0.0" />
      <inertia ixx="3.24447323464583E-07" ixy="2.11907398040965E-12" ixz="1.337493321886E-08" iyy="1.98954959099231E-07" iyz="-3.07311776926212E-11" izz="2.56982145081954E-07" />
      <mass value="0.005" />
    </inertial>
    <visual>
      <origin xyz="0 0 0" rpy="0 0 0" />
      <geometry>
        <mesh filename="package://dg_description/meshes/dg5f_right/visual/rl_dg_5_tip.dae" />
      </geometry>
    </visual>
    <collision>
      <origin xyz="0 0 0" rpy="0 0 0" />
      <geometry>
        <mesh filename="package://dg_description/meshes/dg5f_right/collision/rl_dg_5_tip_c.STL" />
      </geometry>
    </collision>
  </link>
  <joint name="rj_dg_5_tip" type="fixed">
    <origin xyz="0.0 0.0 0.0363" rpy="0.0 0.0 0.0" />
    <parent link="rl_dg_5_4" />
    <child link="rl_dg_5_tip" />
  </joint>
</robot>
